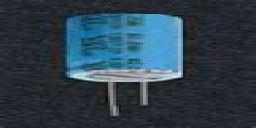Electrolytic Capacitor: (63, 4, 193, 128)
